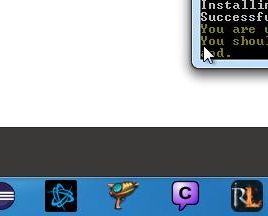cursor: (201, 43, 214, 65)
